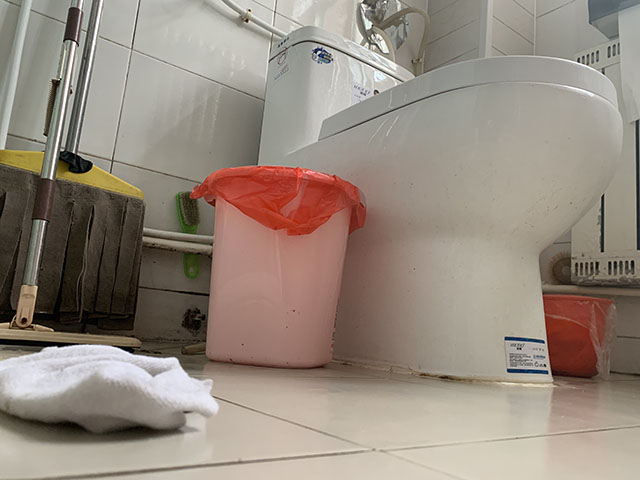closestool: (256, 25, 625, 388)
trashcan: (187, 164, 367, 371), (543, 293, 617, 383)
